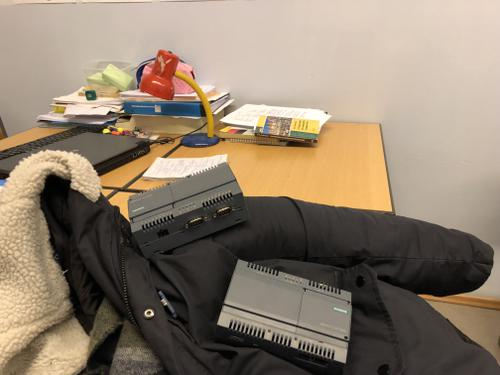device: (214, 260, 353, 375), (128, 162, 251, 260)
